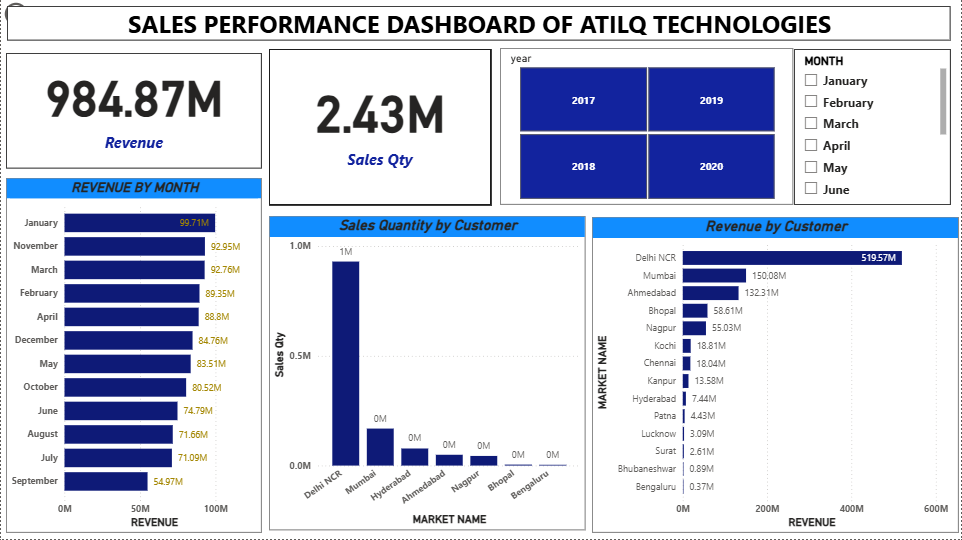

What the dashboard file says about the page in this screenshot:
{"tool":"powerbi","page":{"name":"Insights 1","canvas":[1280,720],"ordinal":0},"visuals":[{"type":"cardVisual","fields":{"Data":["BaseMeasures.Revenue"]},"box":[7.1,71.4,341.4,154.3],"z":0},{"type":"cardVisual","fields":{"Data":["BaseMeasures.Sales Qty"]},"box":[357.1,66.1,296.8,208.7],"z":1000},{"type":"barChart","title":"Revenue by Customer","fields":{"Y":["BaseMeasures.Revenue"],"Category":["sales markets.markets_name"]},"box":[787.5,290,488.8,421.2],"z":2000},{"type":"columnChart","title":"Sales Quantity by Customer","fields":{"Category":["sales markets.markets_name"],"Y":["BaseMeasures.Sales Qty"]},"box":[357.1,289.5,421.7,418.8],"z":3000},{"type":"slicer","fields":{"Values":["sales date.year"]},"box":[665.7,65.7,391.4,208.6],"z":4000},{"type":"barChart","title":"REVENUE BY MONTH","fields":{"Category":["sales date.month_name"],"Y":["BaseMeasures.Revenue"]},"box":[7.1,238.6,341.4,472.9],"z":5000},{"type":"actionButton","box":[0,0,100,40],"z":6000},{"type":"slicer","fields":{"Values":["sales date.cy_date.Variation.Date Hierarchy.Month"]},"box":[1057.5,66.2,208.8,207.5],"z":7000},{"type":"shape","box":[7.4,8.9,1258.3,45.8],"z":8000}]}

Visuals, with their boxes in screenshot pixels (x1, y1, x2, y2), scaled from the page's 1280x720 canvas onto the 962x540 screenshot:
cardVisual - BaseMeasures.Revenue: <bbox>5, 54, 262, 169</bbox>
cardVisual - BaseMeasures.Sales Qty: <bbox>268, 50, 491, 206</bbox>
"Revenue by Customer" barChart: <bbox>592, 218, 959, 533</bbox>
"Sales Quantity by Customer" columnChart: <bbox>268, 217, 585, 531</bbox>
slicer - sales date.year: <bbox>500, 49, 794, 206</bbox>
"REVENUE BY MONTH" barChart: <bbox>5, 179, 262, 534</bbox>
actionButton: <bbox>0, 0, 75, 30</bbox>
slicer - sales date.cy_date.Variation.Date Hierarchy.Month: <bbox>795, 50, 952, 205</bbox>
shape: <bbox>6, 7, 951, 41</bbox>
